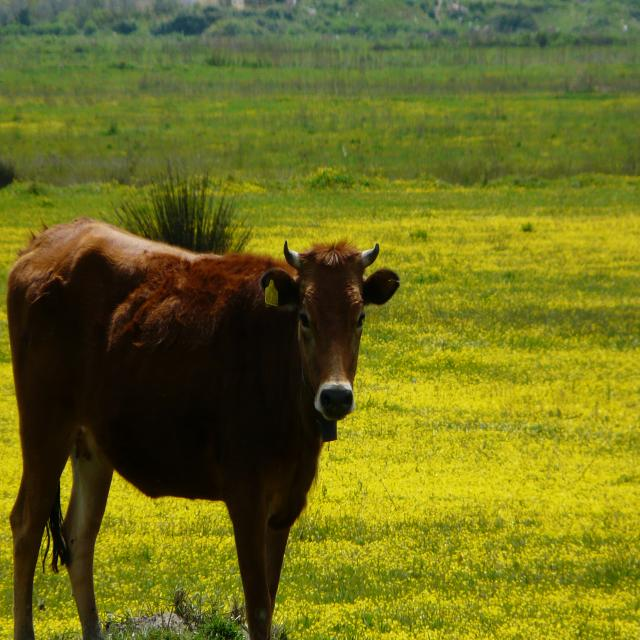cow: (8, 218, 399, 638)
